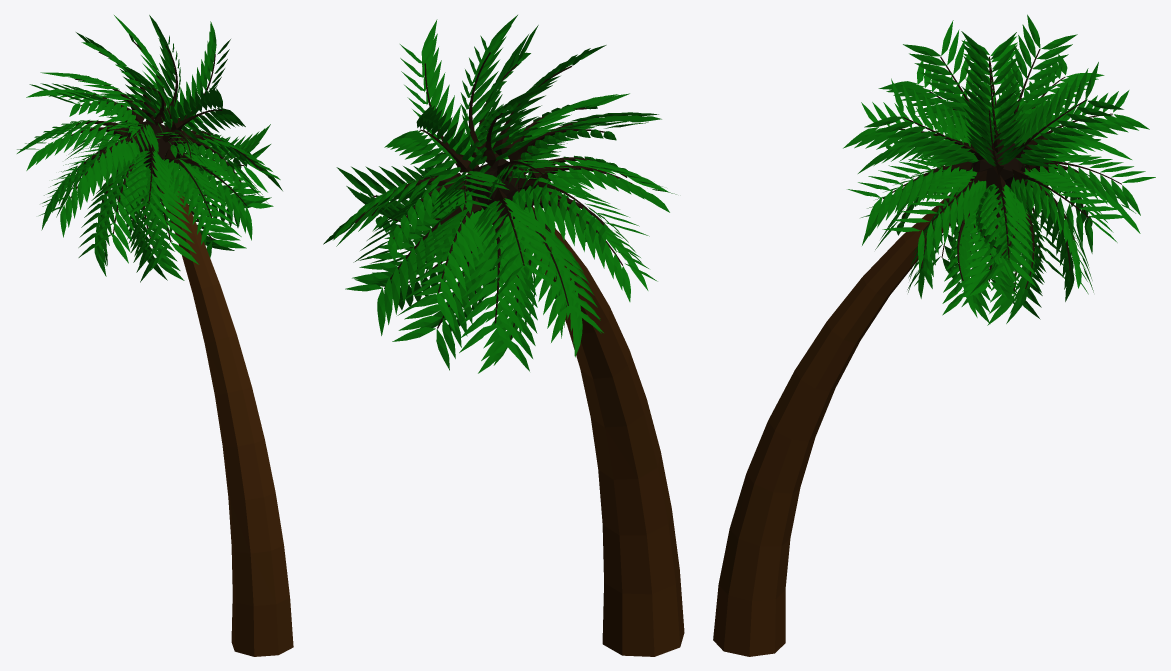
File: PalmTreeModel.fbx
3 renders of one model, left to right at view 1: azimuth 30°, elevation 25°; view 2: azimuth 150°, elevation 25°; view 3: azimuth 270°, elevation 25°, orthographic. The views are drawn at different scales.
Visible parts, largest first — view 1: line_object1; view 2: line_object1; view 3: line_object1.
Boxes of the visible parts, x1,y1,x2,y2 form: line_object1: (17, 15, 293, 656); line_object1: (323, 15, 684, 656); line_object1: (713, 14, 1155, 656).
Bounding box in the file's own units: 10.5 × 22.58 × 14.78.
